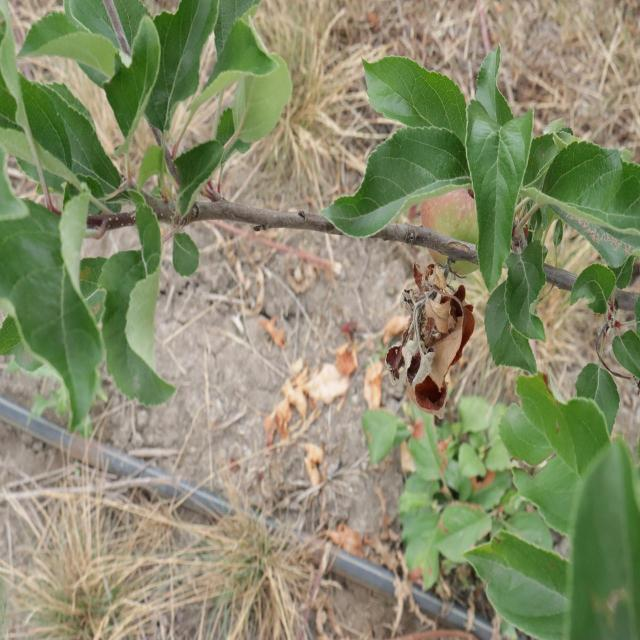-FireBlight-: (380, 265, 482, 410)
